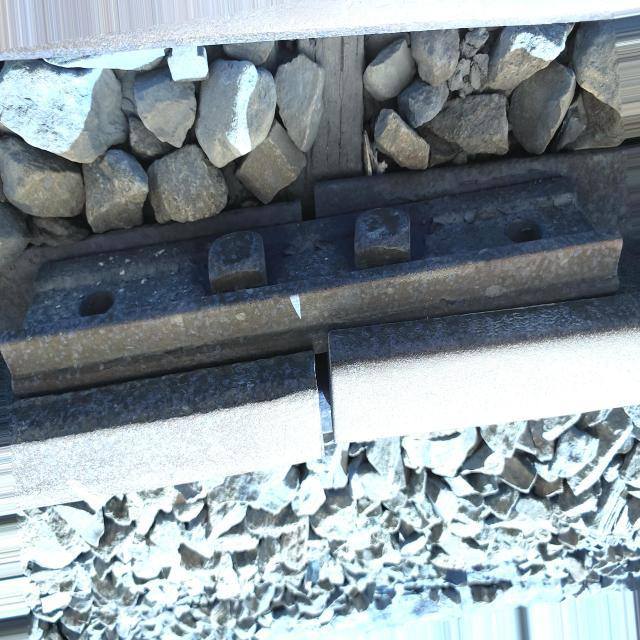Defective Joint: (0, 176, 623, 397)
